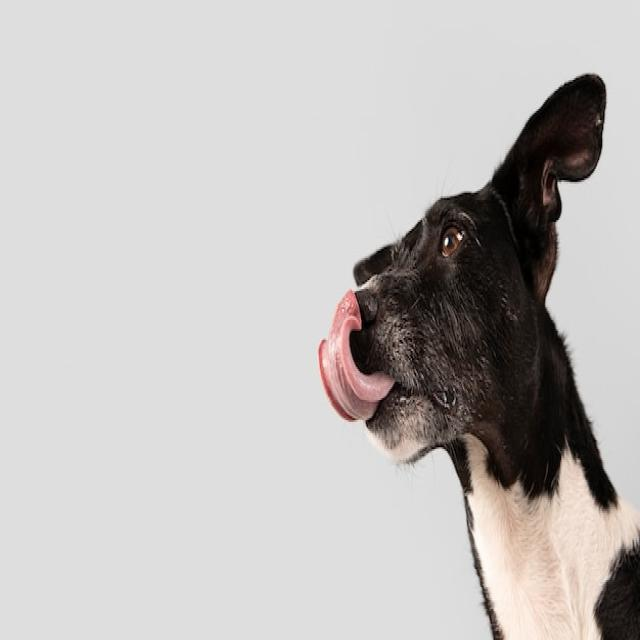Dog: (319, 74, 640, 640)
